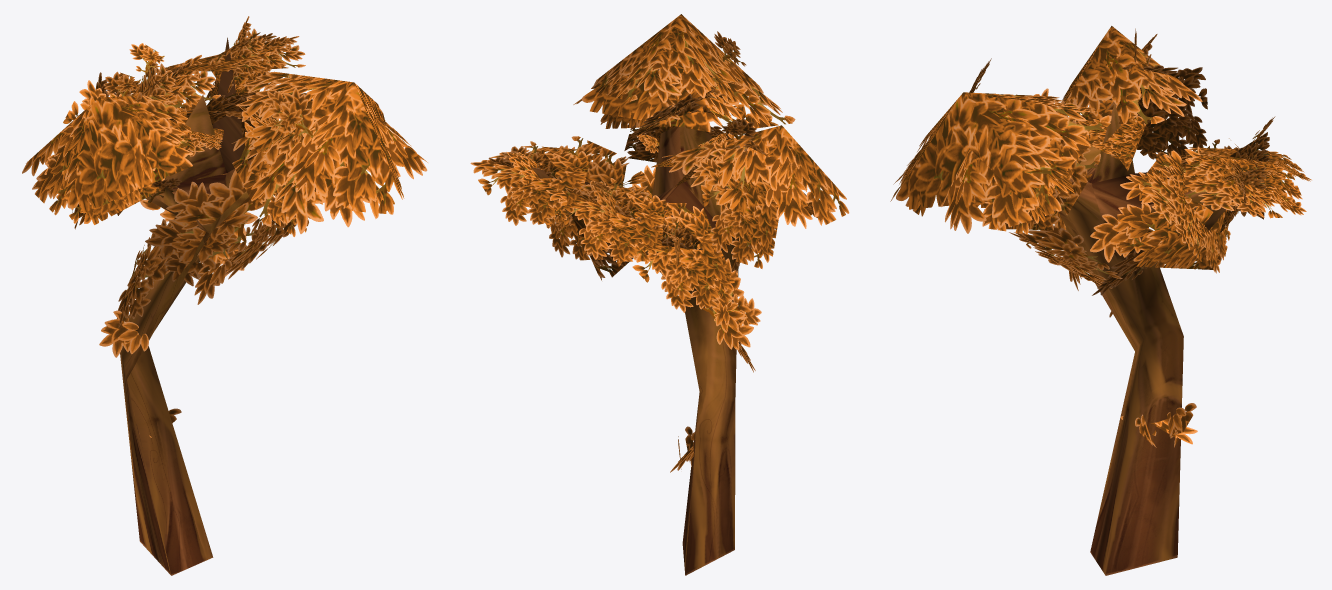
Rendered from 6_Cafe_LOD_2.fbx.
3 views of the same model, side by side, from view 1: azimuth 30°, elevation 25°; view 2: azimuth 150°, elevation 25°; view 3: azimuth 270°, elevation 25° (orthographic). The views are drawn at different scales.
Parts seen in each view (by area): view 1: 6_Cafe_LOD_2; view 2: 6_Cafe_LOD_2; view 3: 6_Cafe_LOD_2.
Boxes of the visible parts, x1,y1,x2,y2 form: 6_Cafe_LOD_2: (22, 16, 427, 575); 6_Cafe_LOD_2: (470, 14, 849, 575); 6_Cafe_LOD_2: (890, 26, 1311, 575).
Bounding box in the file's own units: 512 × 773 × 567.
